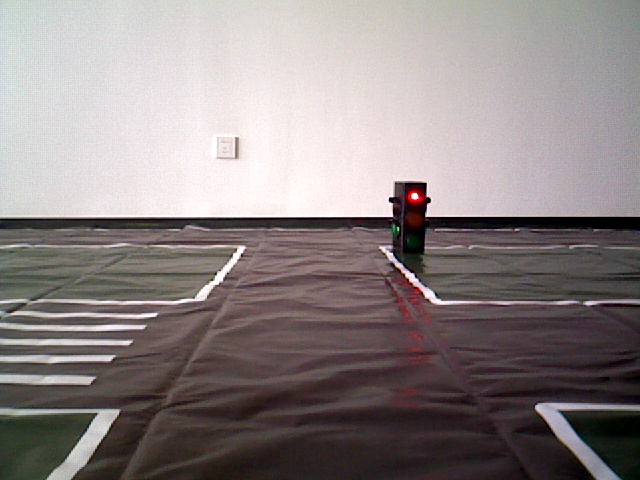red: (388, 183, 426, 256)
